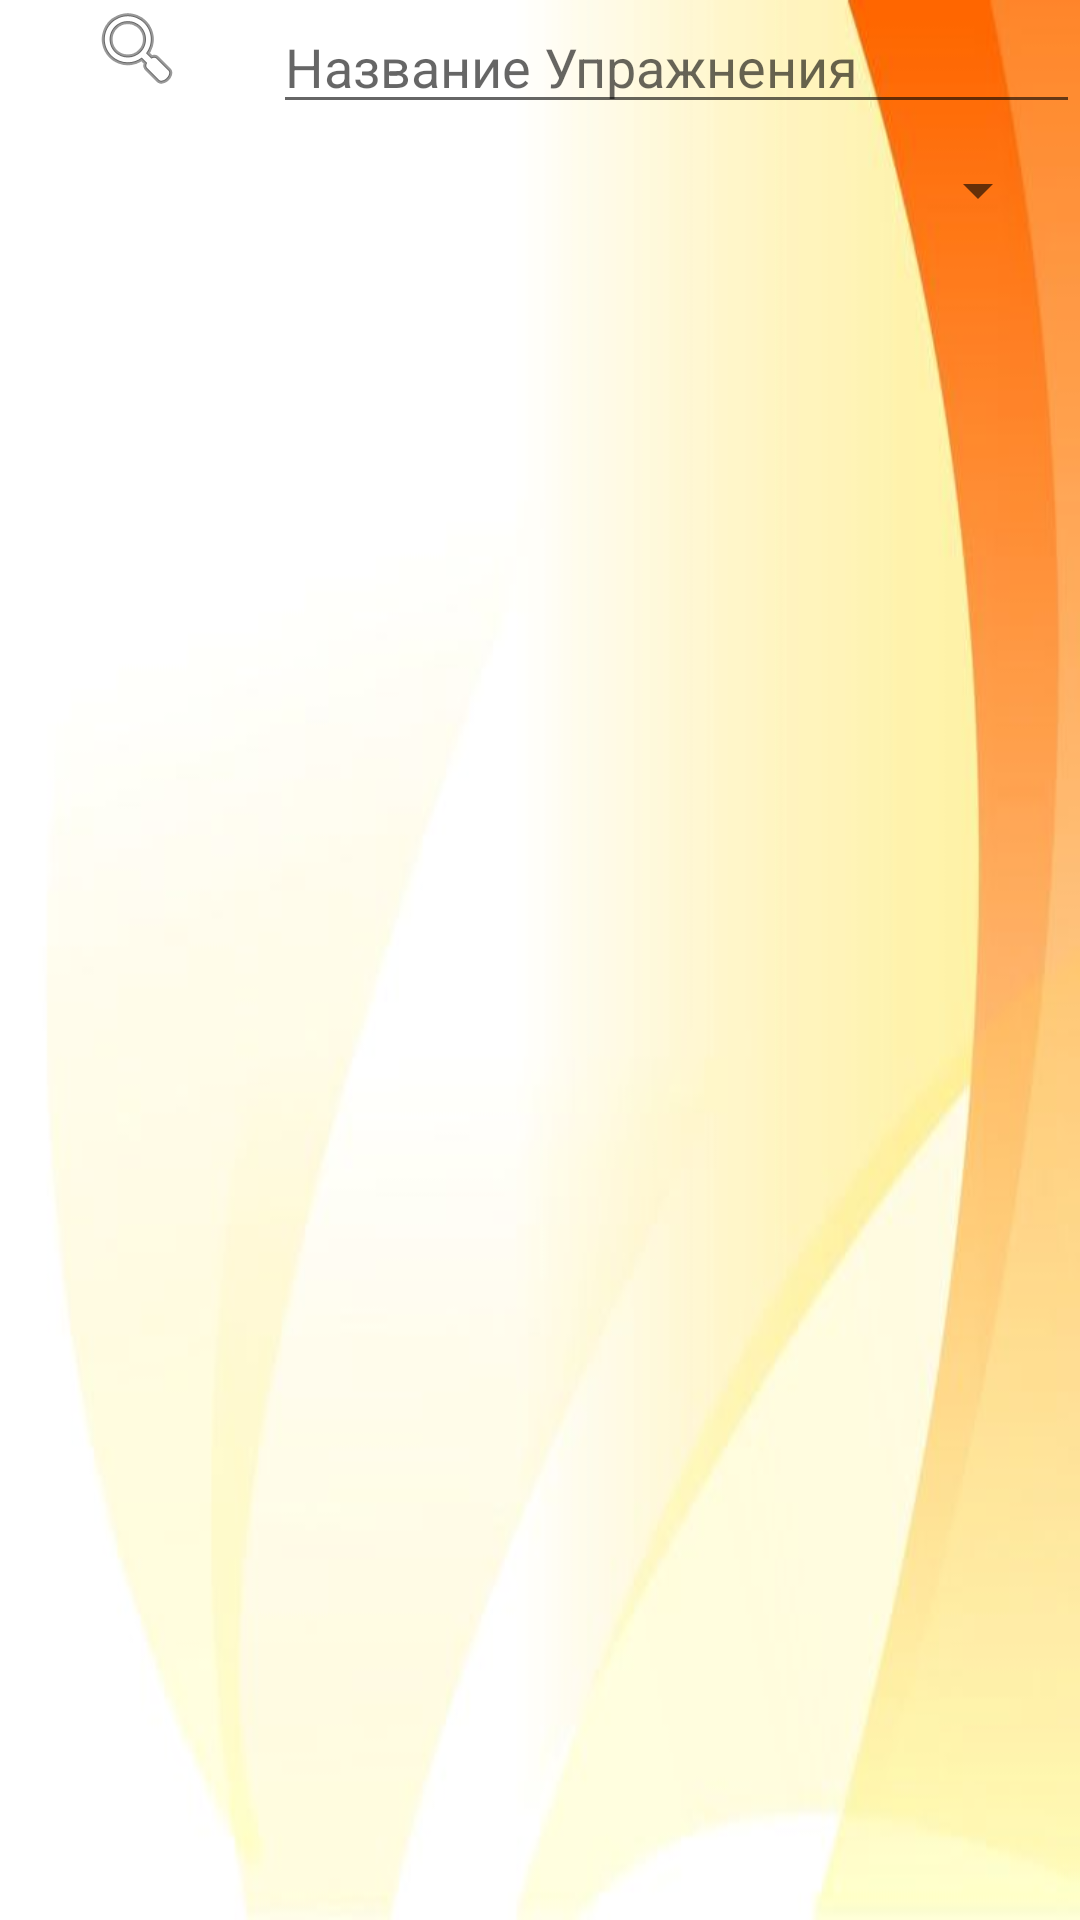

Where icons sit on this 1080 x 1920 app screen, as bbox(x1, y1, x2, y2):
search: bbox(101, 13, 173, 84)
